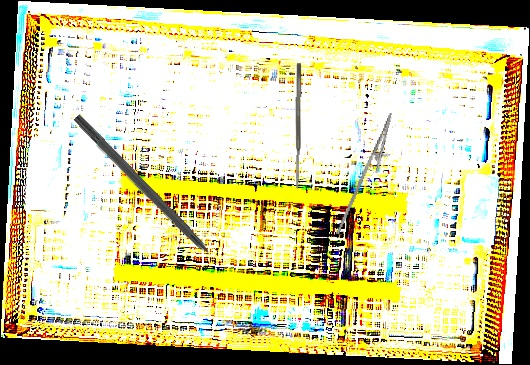Hook Surgical: (70, 113, 230, 276)
Needle Holder: (335, 107, 403, 243)
Spatula Surgical: (293, 62, 303, 190)
